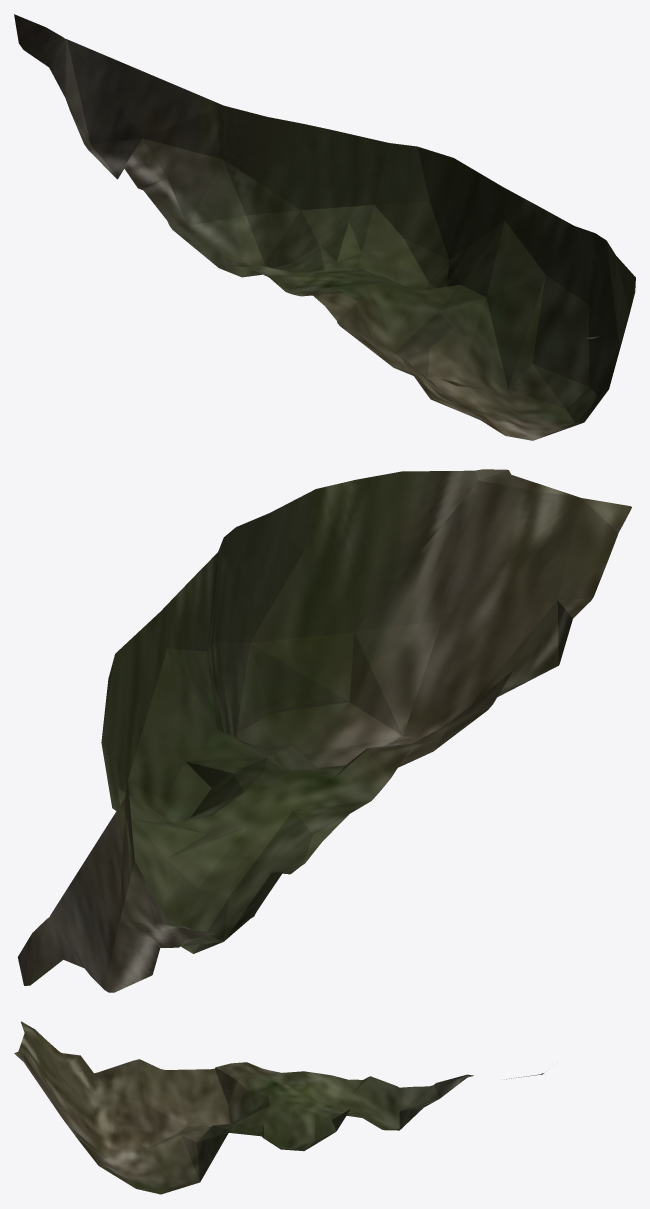
The picture shows the model from 3 angles, top to bottom: view 1: azimuth 30°, elevation 25°; view 2: azimuth 150°, elevation 25°; view 3: azimuth 270°, elevation 25°; orthographic projection. The views are drawn at different scales.
Bounding box in the file's own units: 0.7311 × 0.5703 × 2.83.
1 material, 1 textured.
